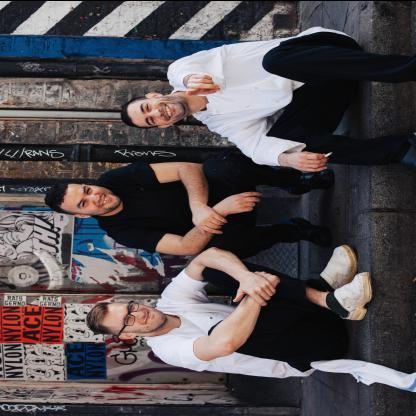Eye: (149, 115, 157, 124), (80, 198, 89, 206), (144, 102, 151, 112), (124, 315, 132, 323), (84, 186, 92, 194), (127, 304, 135, 310)
Mouth: (164, 102, 174, 118), (144, 309, 154, 323), (100, 193, 110, 206)
Nose: (149, 107, 163, 117), (130, 310, 146, 318), (87, 193, 102, 201)
